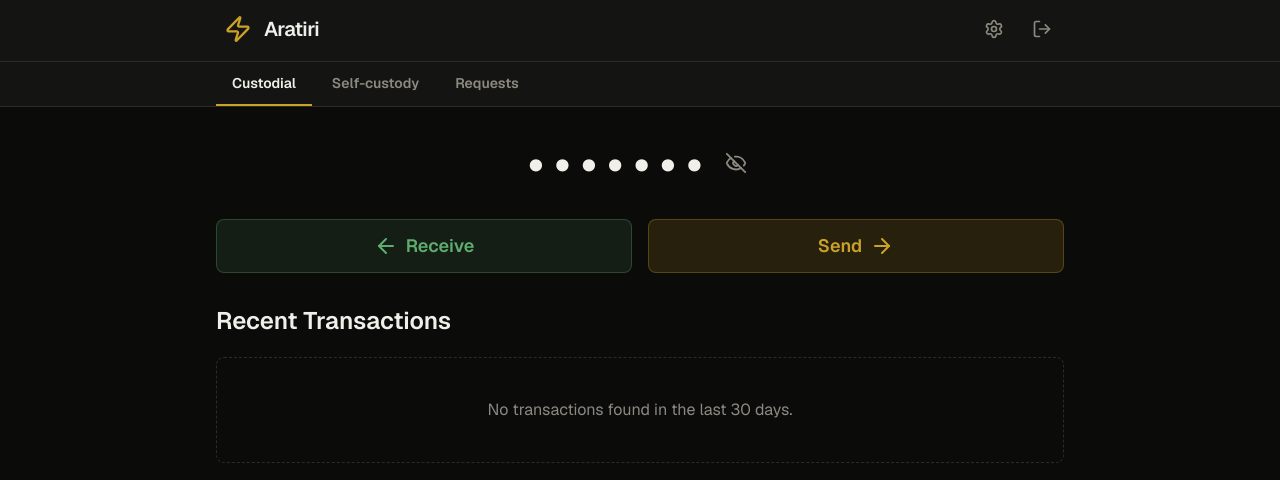
Test: Request Center authenticated flows › masks request amounts when balanceVisible is false
What coordinates should you click on to do the following:
click the button "Requests"
I would click on:
 (487, 84)
Its box is 439,62 -> 535,106.
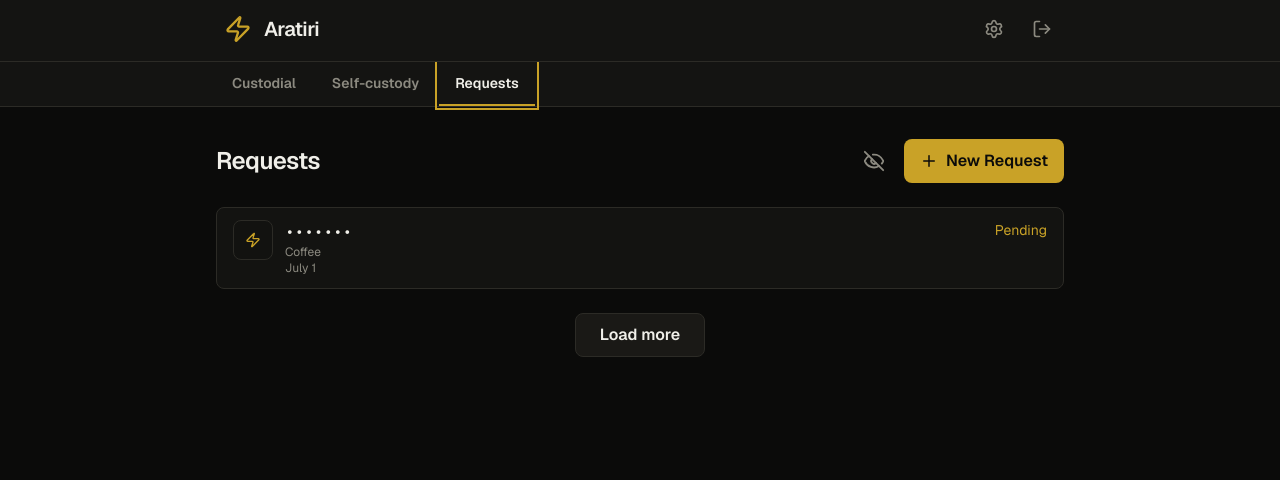
expect the text "•••••••" is shown: met, box 285,220 -> 352,244
expect the heading "Requests" is shown: met, box 216,145 -> 320,177
